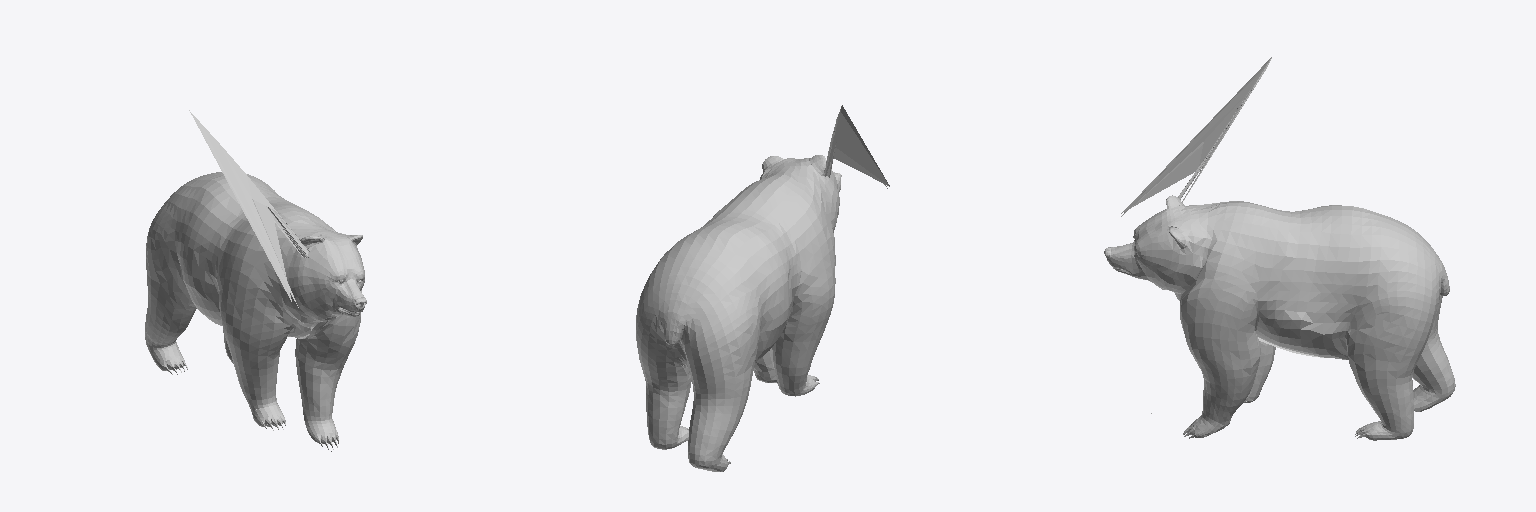
The model's file is Bear0039.obj.
3 renders of one model, left to right at view 1: azimuth 30°, elevation 25°; view 2: azimuth 150°, elevation 25°; view 3: azimuth 270°, elevation 25°, orthographic.
Parts seen in each view (by area): view 1: Object_237; view 2: Object_237; view 3: Object_237.
Part boxes in pixels (x1,y1,x2,y2): Object_237: (145, 110, 366, 451); Object_237: (636, 105, 889, 471); Object_237: (1104, 57, 1455, 440).
Size of the model in its own units: 2.28 by 5.13 by 4.93.